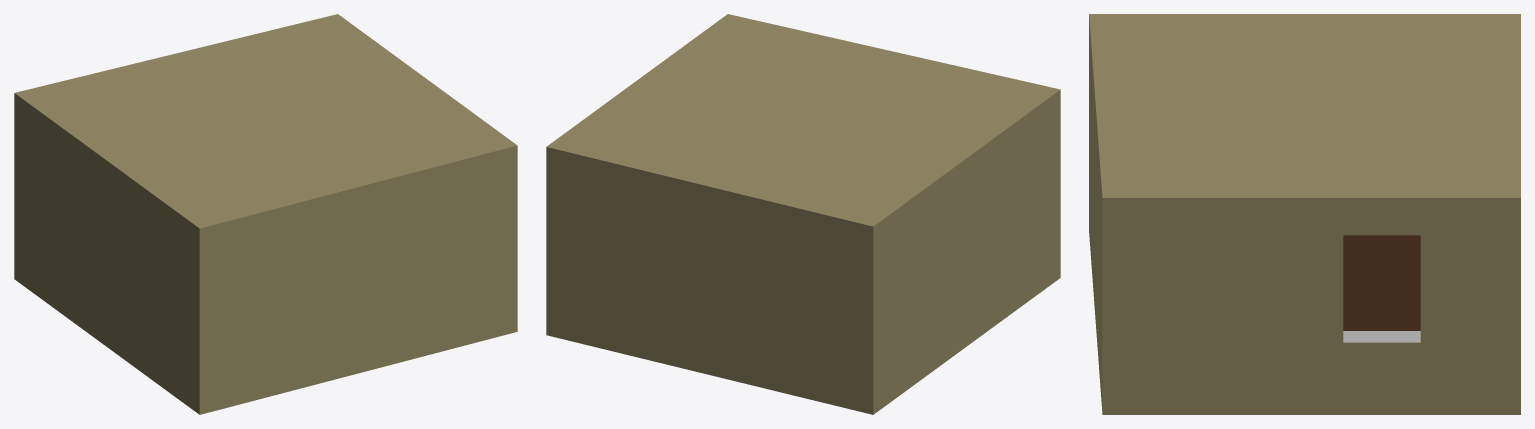
File: Room.fbx
3 renders of one model, left to right at view 1: azimuth 30°, elevation 25°; view 2: azimuth 150°, elevation 25°; view 3: azimuth 270°, elevation 25°, orthographic. The views are drawn at different scales.
Parts seen in each view (by area): view 1: Room; view 2: Room; view 3: Room.
Boxes of the visible parts, x1=… form: Room: x1=14, y1=14, x2=517, y2=414; Room: x1=546, y1=14, x2=1060, y2=414; Room: x1=1089, y1=14, x2=1520, y2=414.
Size of the model in its own units: 1432 by 788 by 1421.
